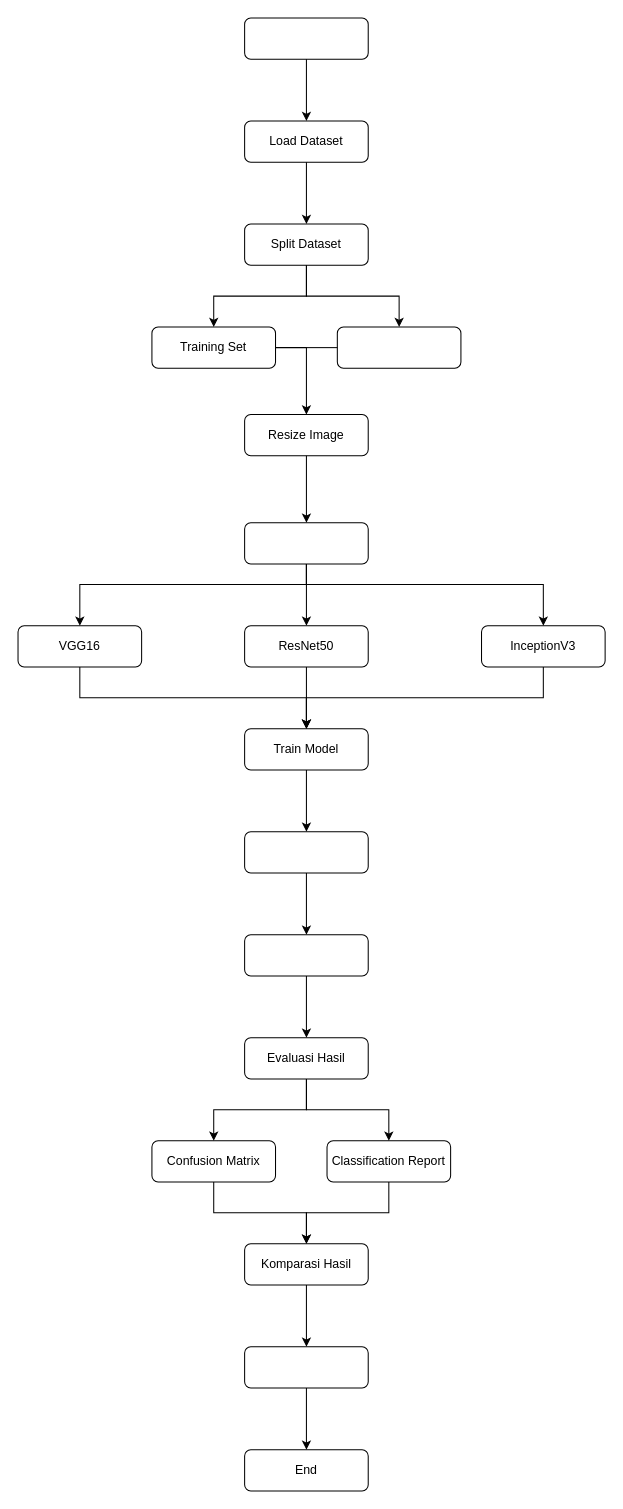
Some shapes in this 623 by 1509 pixel diagram are drawn without their labels. Here are the shapes that lost their labels. From the top down, the centre of each, then its label:
At (x=306, y=38): "Start".
At (x=398, y=347): "Validation Set".
At (x=306, y=543): "Pre-trained".
At (x=306, y=852): "Validasi Model".
At (x=306, y=955): "Test Model".
At (x=306, y=1367): "Simpan Model Terbaik".
